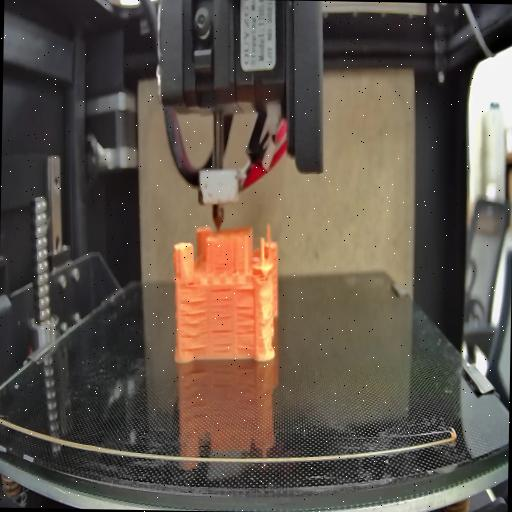cracks: (178, 296, 208, 352), (235, 303, 257, 352), (210, 285, 234, 324), (212, 329, 232, 356), (182, 276, 197, 292), (236, 286, 254, 296), (216, 260, 230, 271)
